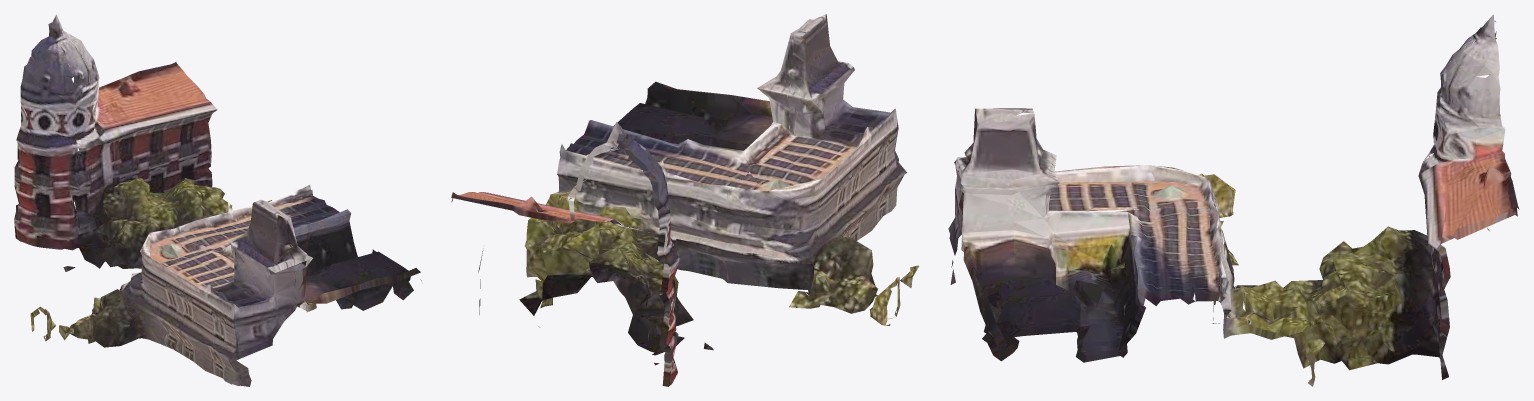
3 renders of one model, left to right at view 1: azimuth 30°, elevation 25°; view 2: azimuth 150°, elevation 25°; view 3: azimuth 270°, elevation 25°, orthographic. The views are drawn at different scales.
Visible parts, largest first — view 1: Mesh_0; view 2: Mesh_0; view 3: Mesh_0.
Part boxes in pixels (x1,y1,x2,y2): Mesh_0: [14, 14, 421, 386]; Mesh_0: [451, 14, 919, 386]; Mesh_0: [948, 14, 1519, 386].
Bounding box in the file's own units: 31.67 × 22.12 × 40.52.
1 material, 1 textured.
